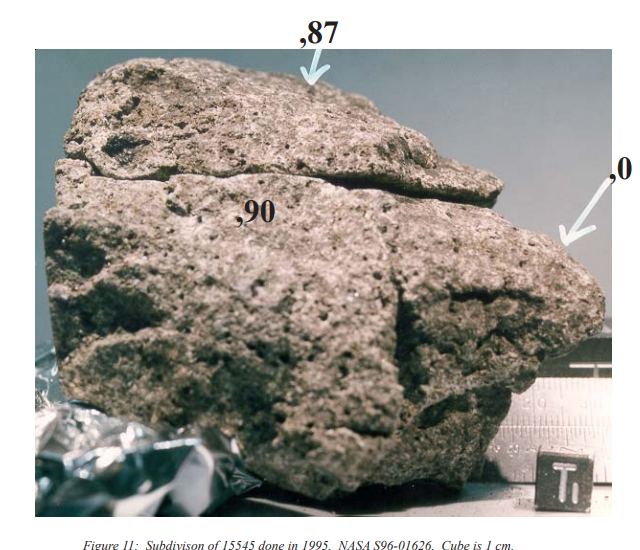Basalt: (103, 187, 493, 446), (65, 52, 487, 197), (276, 286, 513, 470), (276, 286, 506, 473)
